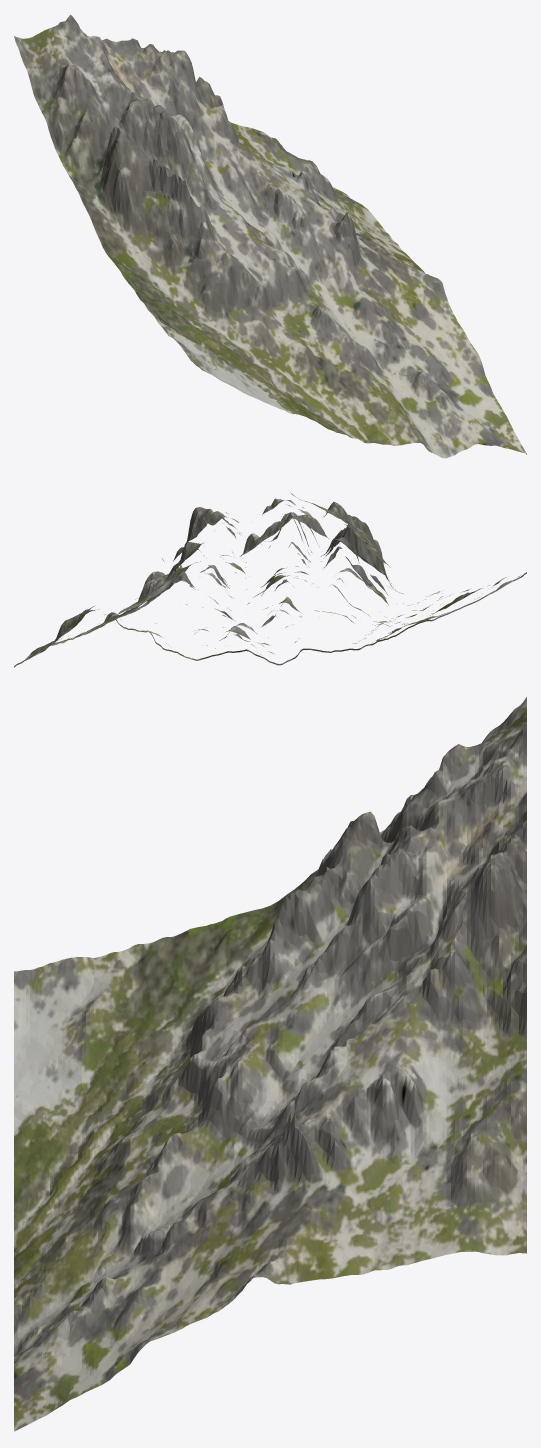
3 renders of one model, top to bottom at view 1: azimuth 30°, elevation 25°; view 2: azimuth 150°, elevation 25°; view 3: azimuth 270°, elevation 25°, orthographic. The views are drawn at different scales.
Bounding box in the file's own units: 250 × 271 × 241.
1 material, 1 textured.
